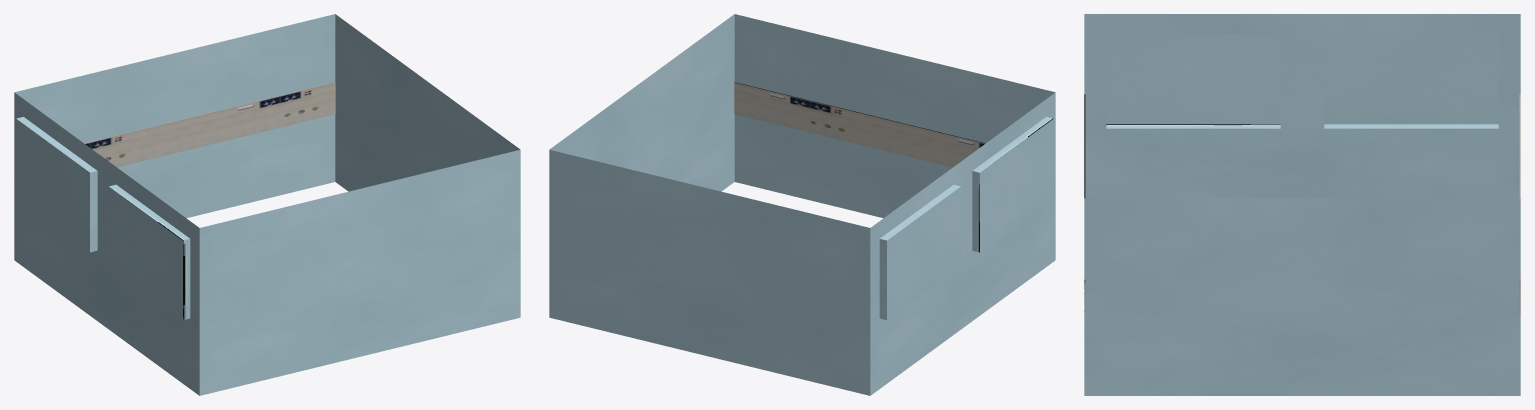
The model's file is Hospital_Ward.fbx.
The picture shows the model from 3 angles, left to right: view 1: azimuth 30°, elevation 25°; view 2: azimuth 150°, elevation 25°; view 3: azimuth 270°, elevation 25°; orthographic projection. The views are drawn at different scales.
Parts seen in each view (by area): view 1: Plane.001; view 2: Plane.001; view 3: Plane.001.
Part boxes in pixels (<box>): Plane.001: <box>14,14,520,395</box>; Plane.001: <box>549,14,1055,395</box>; Plane.001: <box>1084,14,1520,395</box>.
Bounding box in the file's own units: 409 × 200 × 400.
Materials: 1 (1 with a texture image).
